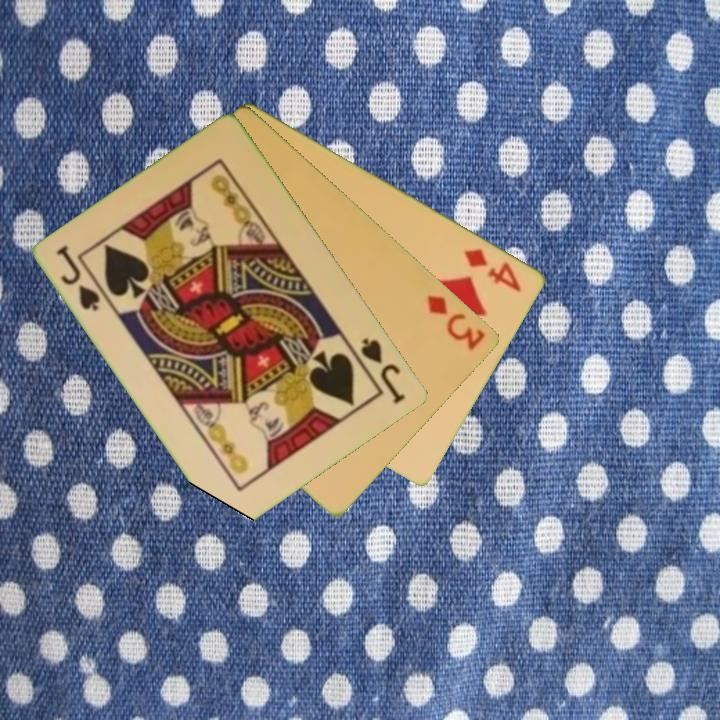3d: (424, 291, 489, 354)
4d: (461, 244, 526, 295)
Js: (52, 241, 104, 315), (357, 334, 409, 407)
